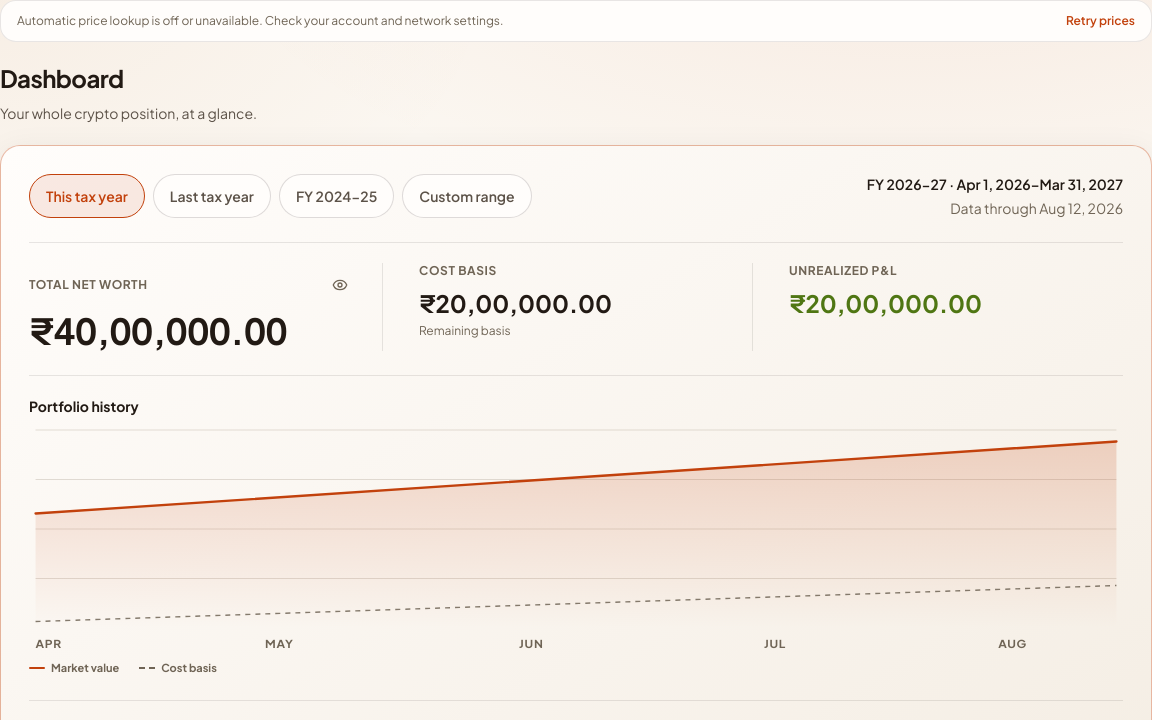
Scenario: DashboardTab coherent as-of integration › does not leak zero-value classification or counts while balances are hidden
Expected: the text "GONE" is not shown
Click the button named "Hide balances": coordinates (340, 285) [318,263,362,307]
(page scrolled)
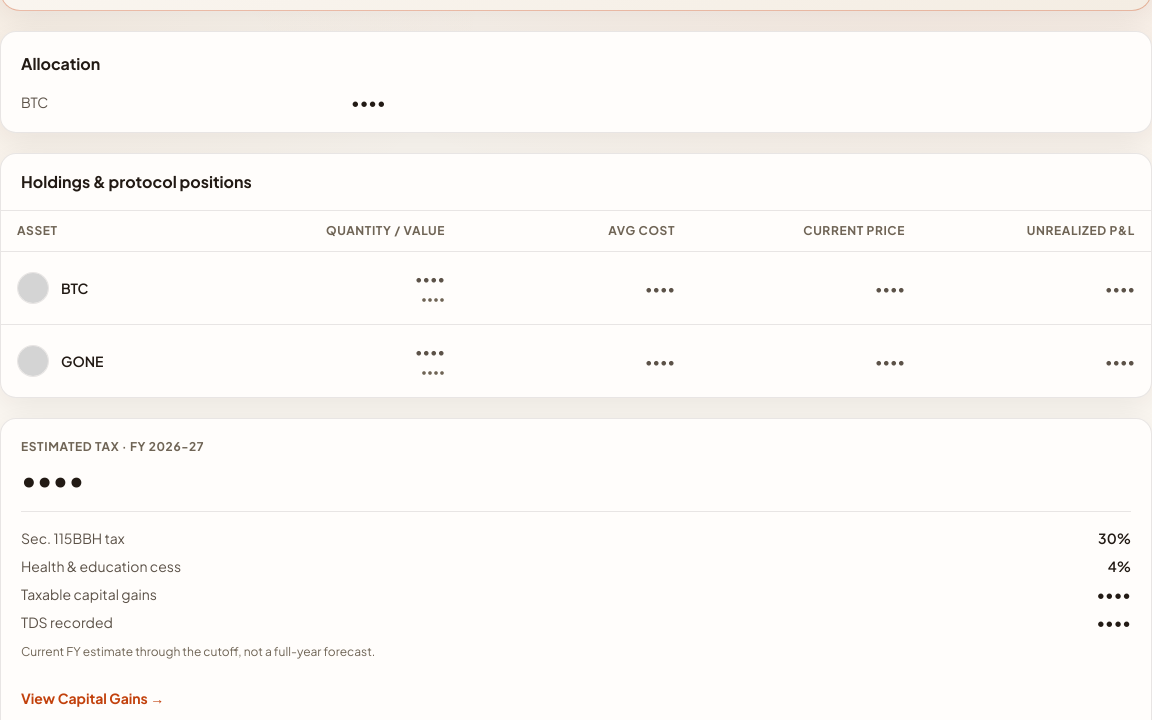
Expected: the text "BTC" below "Asset" is shown, [61,279,88,297]
Expected: the text "GONE" is shown, [61,351,103,371]
